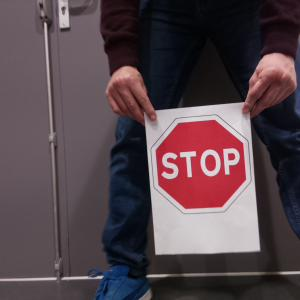stop: (151, 119, 249, 212)
